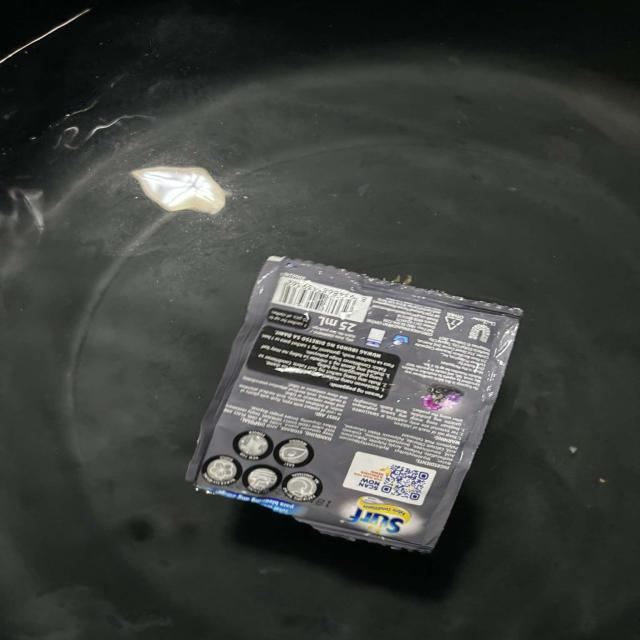Plastic Wrapper: (170, 238, 540, 567)
